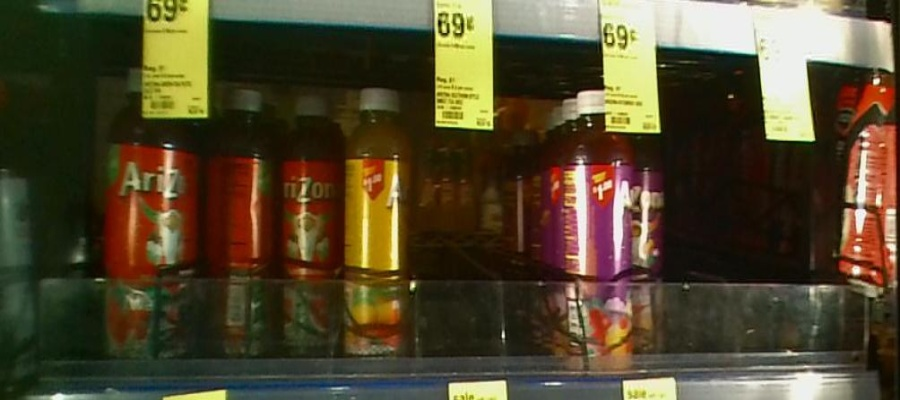bottle: (100, 62, 193, 372), (558, 84, 630, 383), (204, 71, 274, 368), (343, 78, 410, 374), (280, 77, 342, 374), (629, 86, 668, 357)
